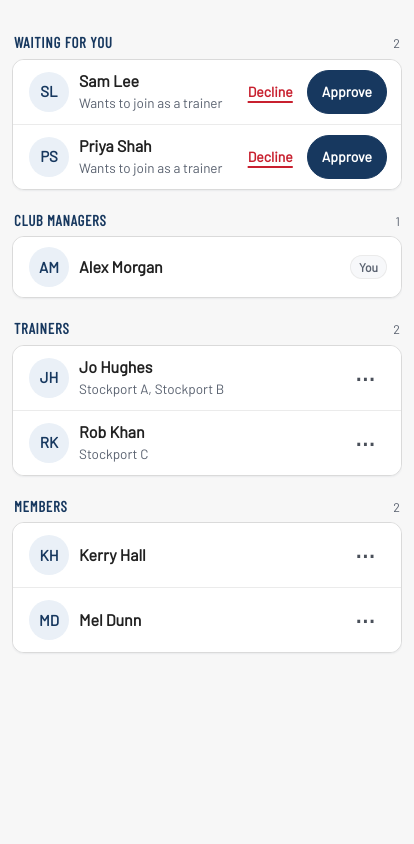
MembersPage: waiting for you › switches both buttons off while a request is being saved
Click the button with aria-label "Approve Priya Shah". click: (347,156)
box: left=307, top=134, right=387, bottom=178
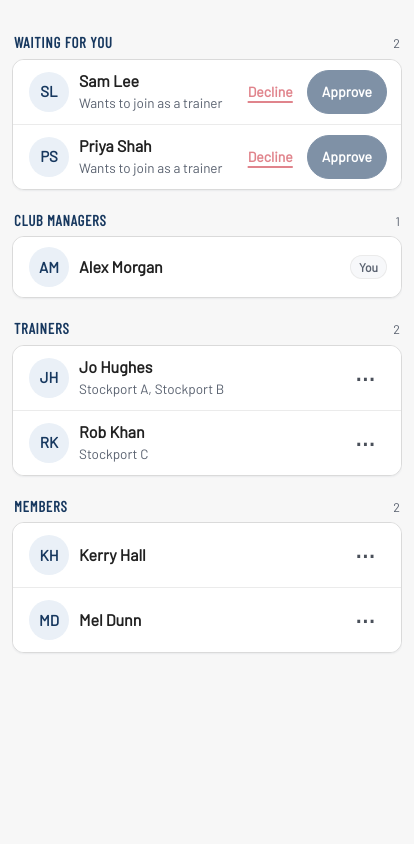
Expected: the button with aria-label "Decline Sam Lee" is disabled, left=244, top=70, right=297, bottom=114
Expected: the button with aria-label "Approve Sam Lee" is disabled, left=307, top=70, right=387, bottom=114
